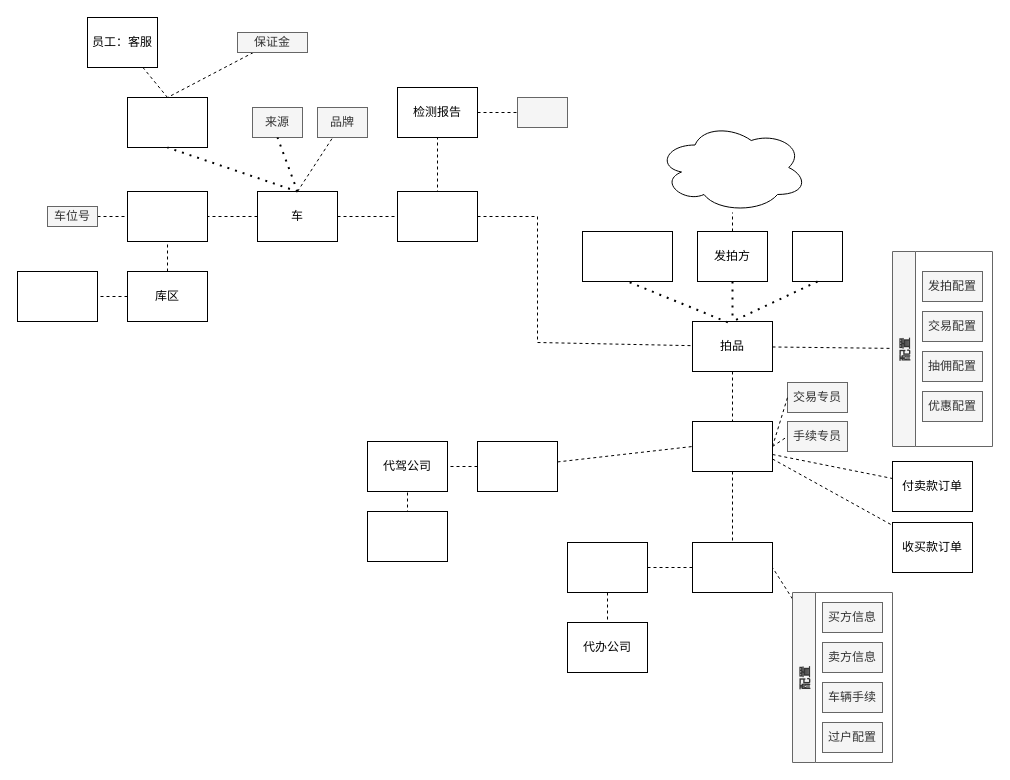
This 1010x780 diagram has some shape labels left out. The centre of each missing label's shape, as x and y in pixels:
"代办单" belongs at point (607, 567).
"代驾单" belongs at point (517, 466).
"入库记录" belongs at point (167, 216).
"卖方用户" belongs at point (167, 122).
"卖方用户(自主发拍) 发拍场地(员工分组) 委托发拍人(员工)" belongs at point (732, 167).
"员工：销售促进" belongs at point (627, 256).
"场次" belongs at point (817, 256).
"拍卖订单" belongs at point (732, 446).
"检测师" belongs at point (542, 112).
"车源单" belongs at point (437, 216).
"过户单" belongs at point (732, 567).
"驾驶员" belongs at point (407, 536).
"龙门" belongs at point (57, 296).
